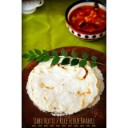poori: (27, 56, 100, 113)
